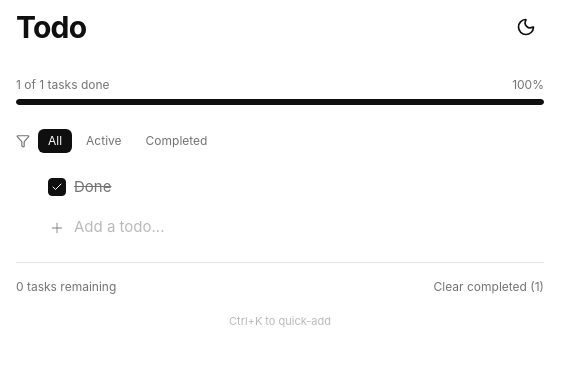
Test: Empty state › shows active empty state when all todos are completed
Click the button "Active".
click(104, 141)  # box [76,129,132,153]
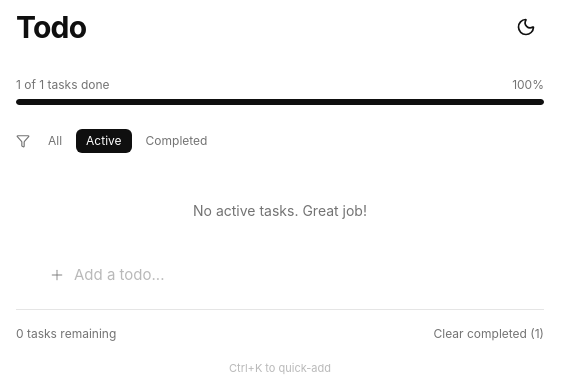
Now the text "No active tasks. Great job!" is shown, box [193,202,367,219]
